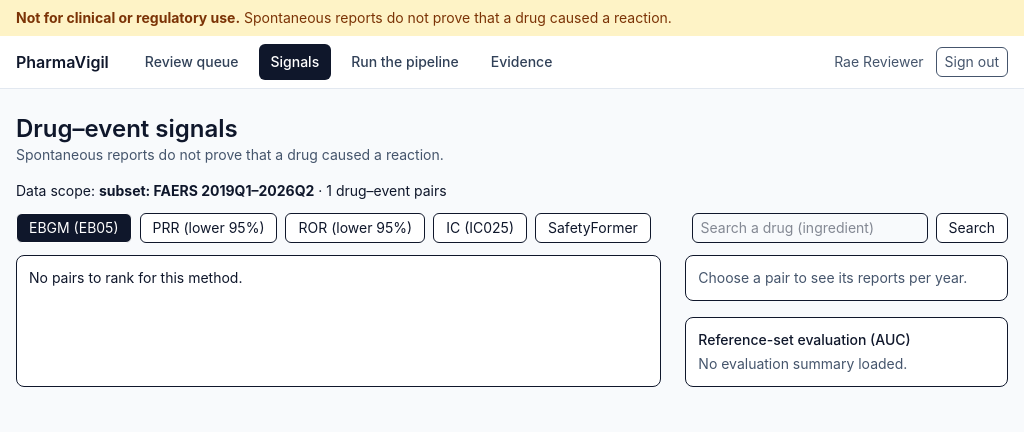
Scenario: SignalsPage search › searches a drug and shows the reference-set badge
The width and height of the screenshot is (1024, 432).
Type "amio" into the field labelled "Search a drug" at coordinates (810, 228), box [692, 213, 928, 243]
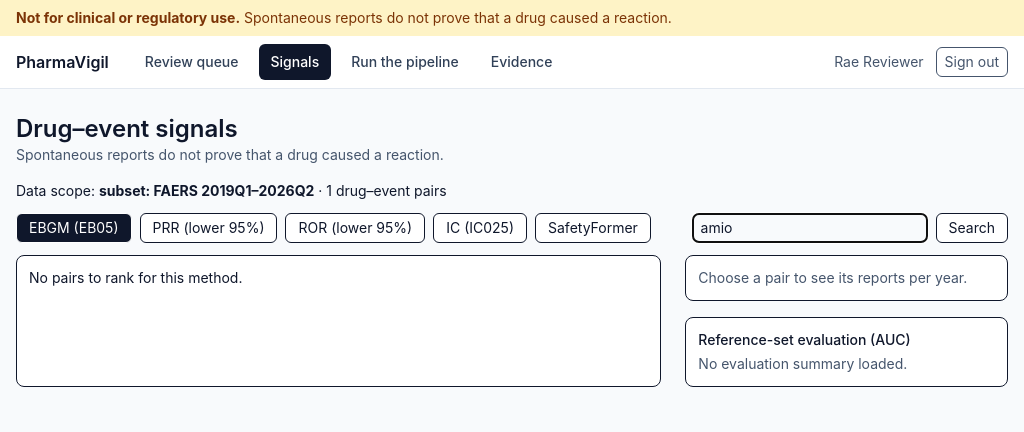
Click the button "Search" at coordinates (972, 228), box [936, 213, 1008, 243]
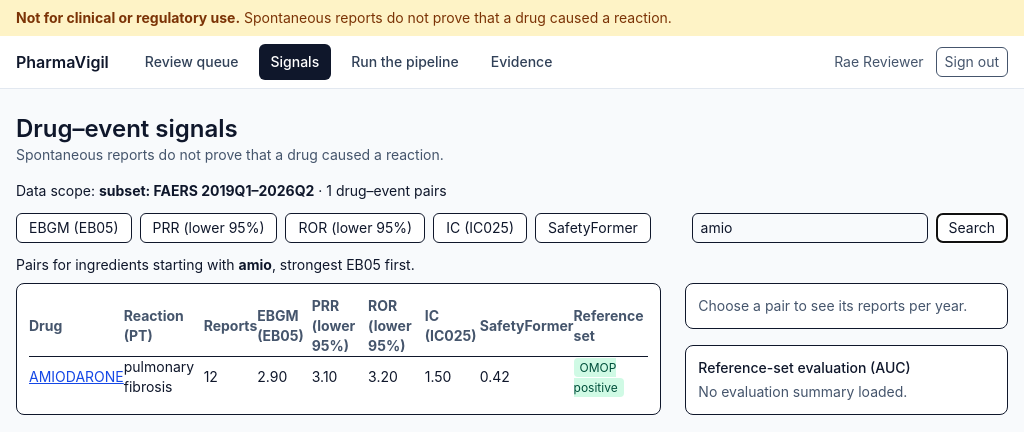
Expected: the text "OMOP positive" is shown, [574, 358, 624, 397]
Expected: the text "0.42" is shown, [480, 356, 574, 397]
